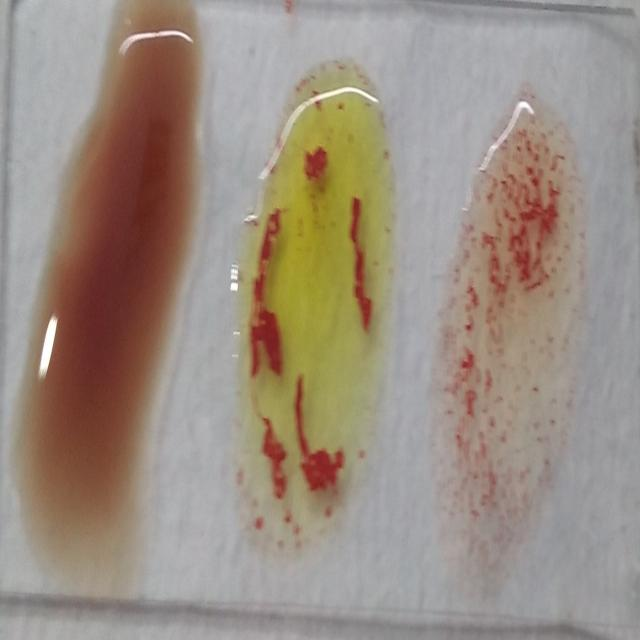B: (250, 66, 398, 565)
D: (458, 109, 581, 556)
